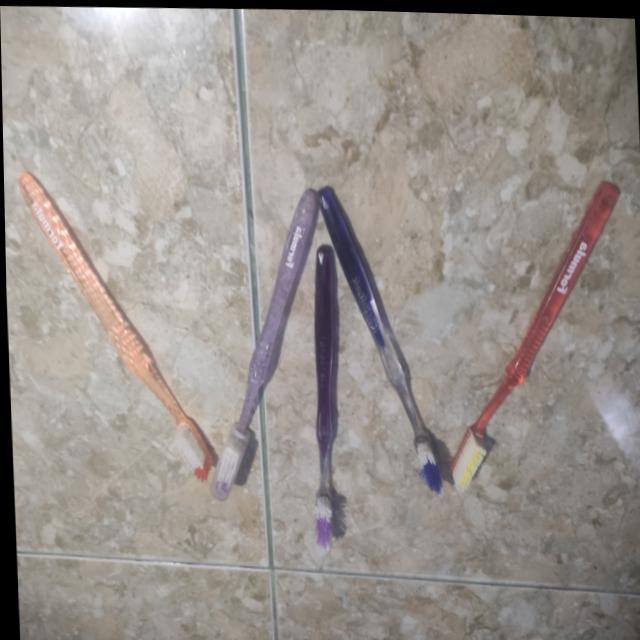toothbrush: (7, 150, 215, 492), (445, 160, 632, 504), (318, 172, 451, 502), (208, 164, 318, 505), (306, 233, 342, 557)
